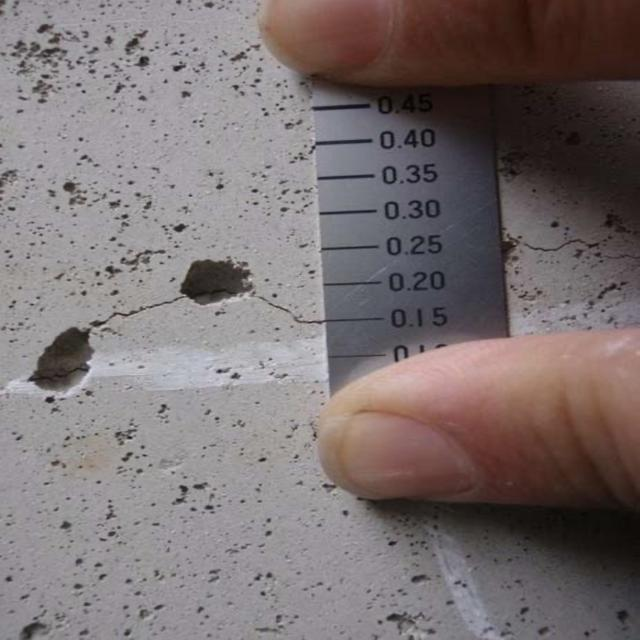crack: (57, 271, 310, 336), (510, 207, 640, 279)
